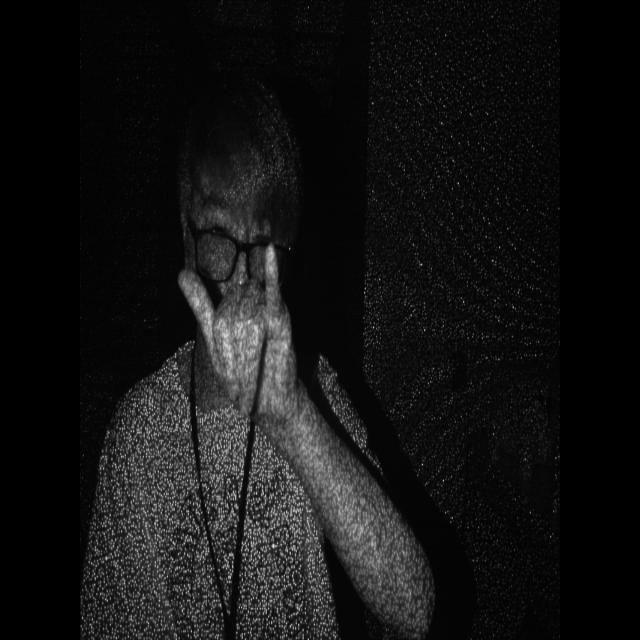Y: (162, 222, 307, 423)
